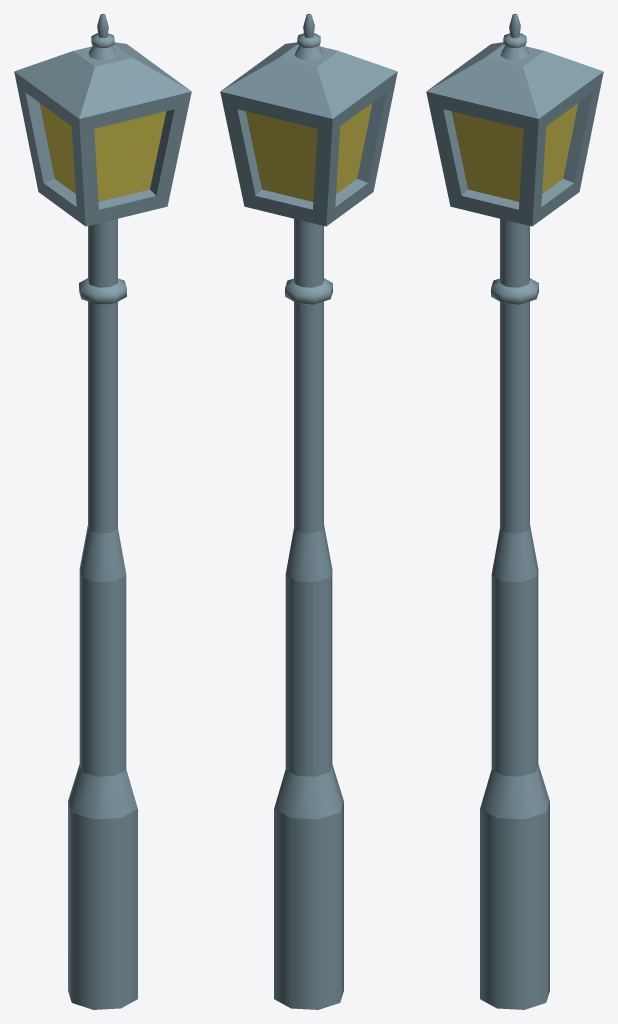
Rendered from sm_lampPost_GEO.fbx.
3 renders of one model, left to right at view 1: azimuth 30°, elevation 25°; view 2: azimuth 150°, elevation 25°; view 3: azimuth 330°, elevation 25°, orthographic.
Parts seen in each view (by area): view 1: sm_lampPost_GEO; view 2: sm_lampPost_GEO; view 3: sm_lampPost_GEO.
Boxes of the visible parts, x1,y1,x2,y2 form: sm_lampPost_GEO: (14,14,191,1009); sm_lampPost_GEO: (220,14,397,1009); sm_lampPost_GEO: (426,14,603,1009).
Bounding box in the file's own units: 0.4 × 3.33 × 0.4.
Materials: 1 (1 with a texture image).
